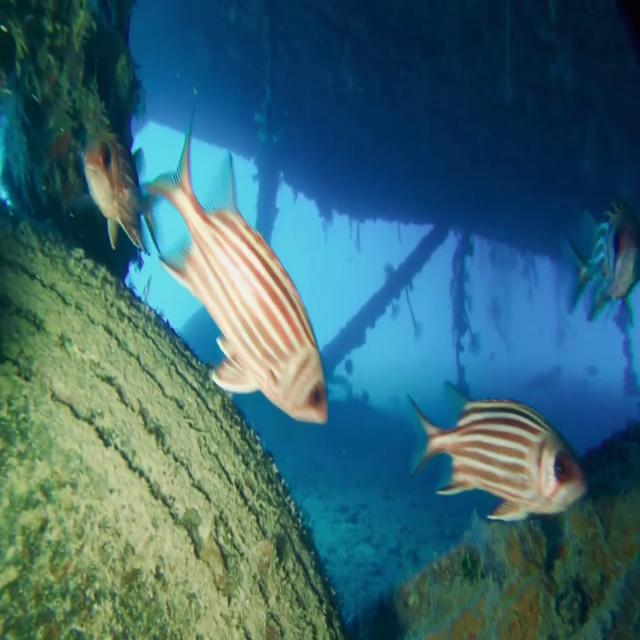Asker Baligi: (138, 103, 330, 427), (406, 382, 588, 526)
